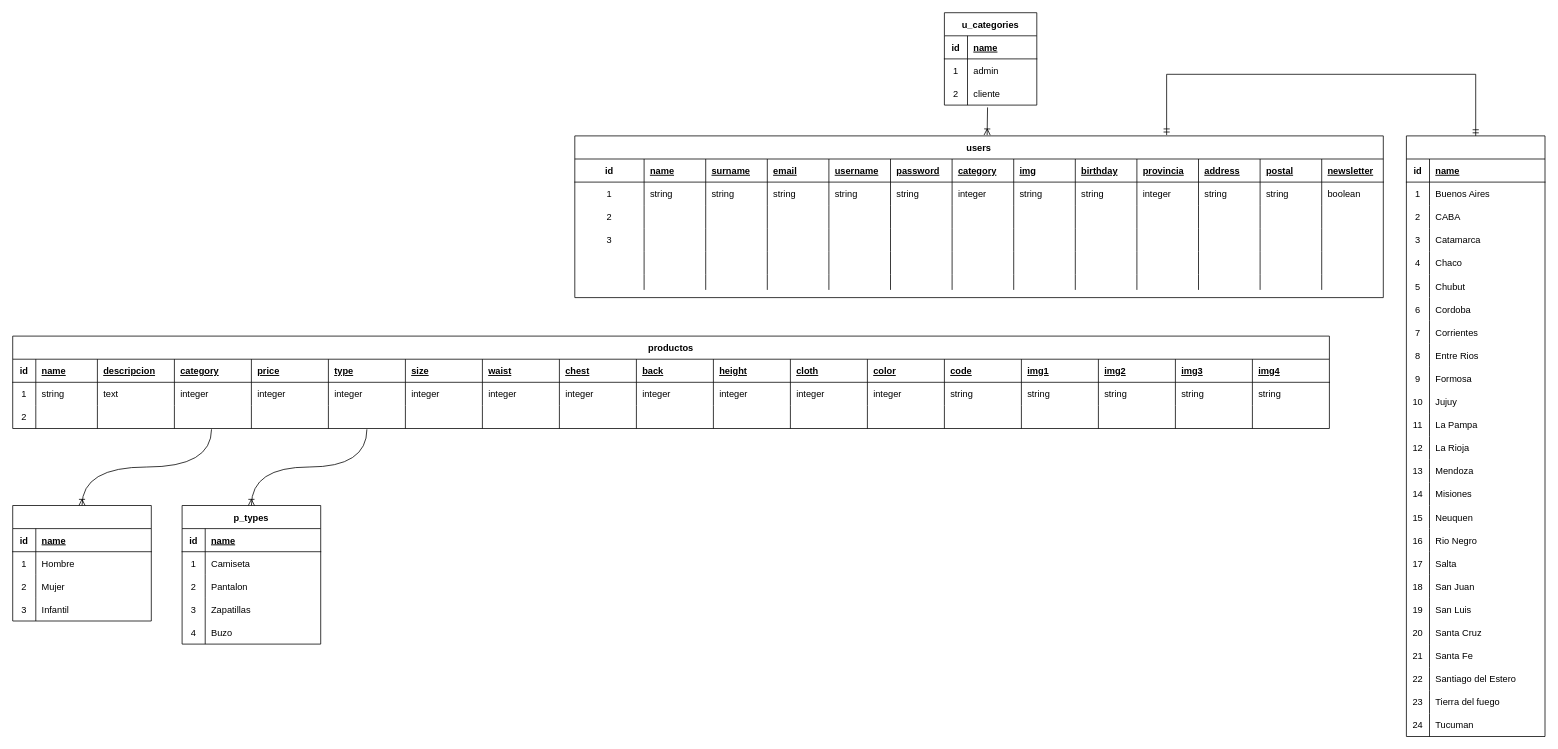
Some shapes in this 1558 by 749 pixel diagram are drawn without their labels. Each missing label, with the box of its shape:
p_categories: (12, 505, 151, 621)
u_provincias: (1406, 135, 1545, 737)
